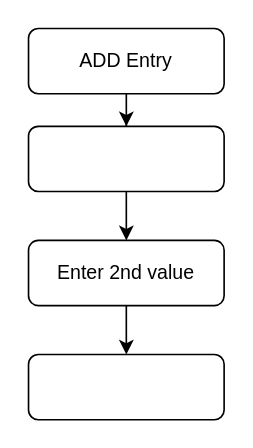
Some shapes in this 253 by 448 pixel diagram are drawn without their labels. Here are the shapes that lost their labels. From the top down, the centre of each, then its label:
At point (125, 158): "Enter Value 1".
At point (125, 386): "Enter 3rd value".
